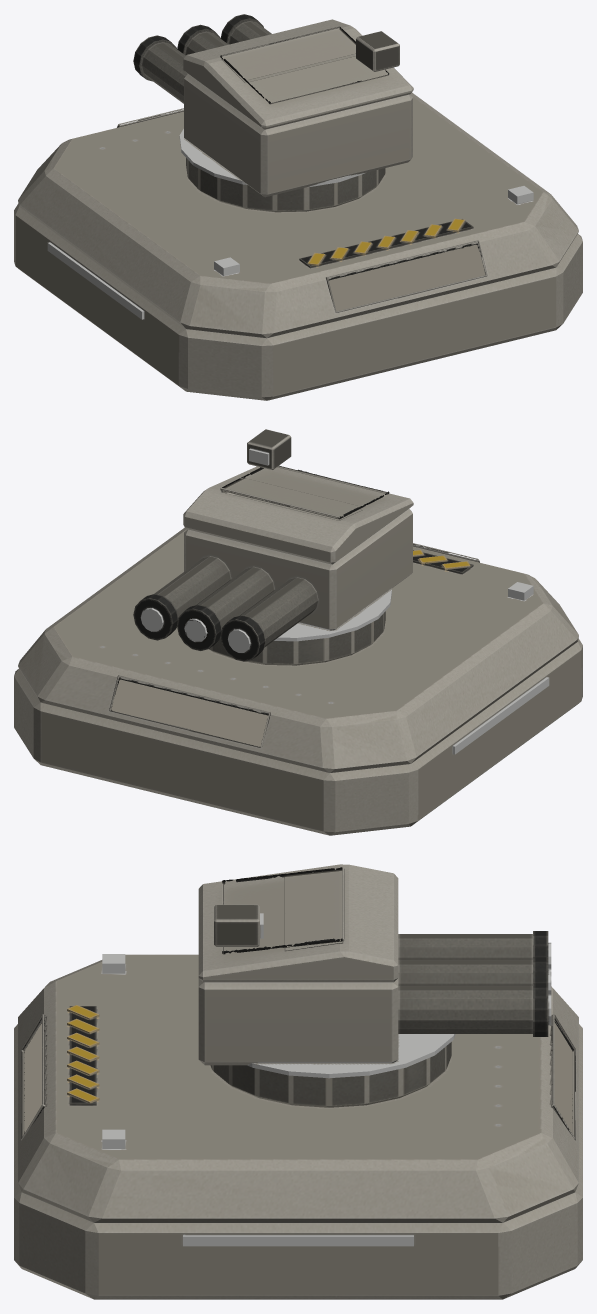
Rendered from ord_undertow.fbx.
3 renders of one model, top to bottom at view 1: azimuth 30°, elevation 25°; view 2: azimuth 150°, elevation 25°; view 3: azimuth 270°, elevation 25°, orthographic. The views are drawn at different scales.
Parts seen in each view (by area): view 1: base_bar, launcher_bar, turret_bar, base_glow_running_bar, turret_glow_running_bar; view 2: base_bar, launcher_bar, turret_bar, turret_glow_running_bar, base_glow_running_bar, launcher_glow_weapon_bar; view 3: base_bar, launcher_bar, turret_bar, base_glow_running_bar, turret_glow_running_bar.
Boxes of the visible parts, box(x1,y1,x2,y2) form: base_bar: box(14, 92, 582, 400); launcher_bar: box(133, 14, 413, 197); turret_bar: box(186, 158, 385, 212); base_glow_running_bar: box(47, 186, 533, 319); turret_glow_running_bar: box(179, 129, 365, 187); base_bar: box(14, 527, 582, 835); launcher_bar: box(133, 429, 413, 661); turret_bar: box(209, 611, 385, 665); turret_glow_running_bar: box(274, 588, 391, 641); base_glow_running_bar: box(452, 582, 549, 754); launcher_glow_weapon_bar: box(140, 608, 250, 652); base_bar: box(14, 954, 582, 1299); launcher_bar: box(198, 864, 548, 1065); turret_bar: box(210, 1042, 451, 1107); base_glow_running_bar: box(102, 954, 413, 1246); turret_glow_running_bar: box(247, 1034, 455, 1078).
Bounding box in the file's own units: 749 × 545 × 740.
2 materials, 2 textured.
